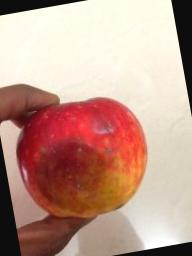Apple Overripe: (8, 80, 166, 238)
